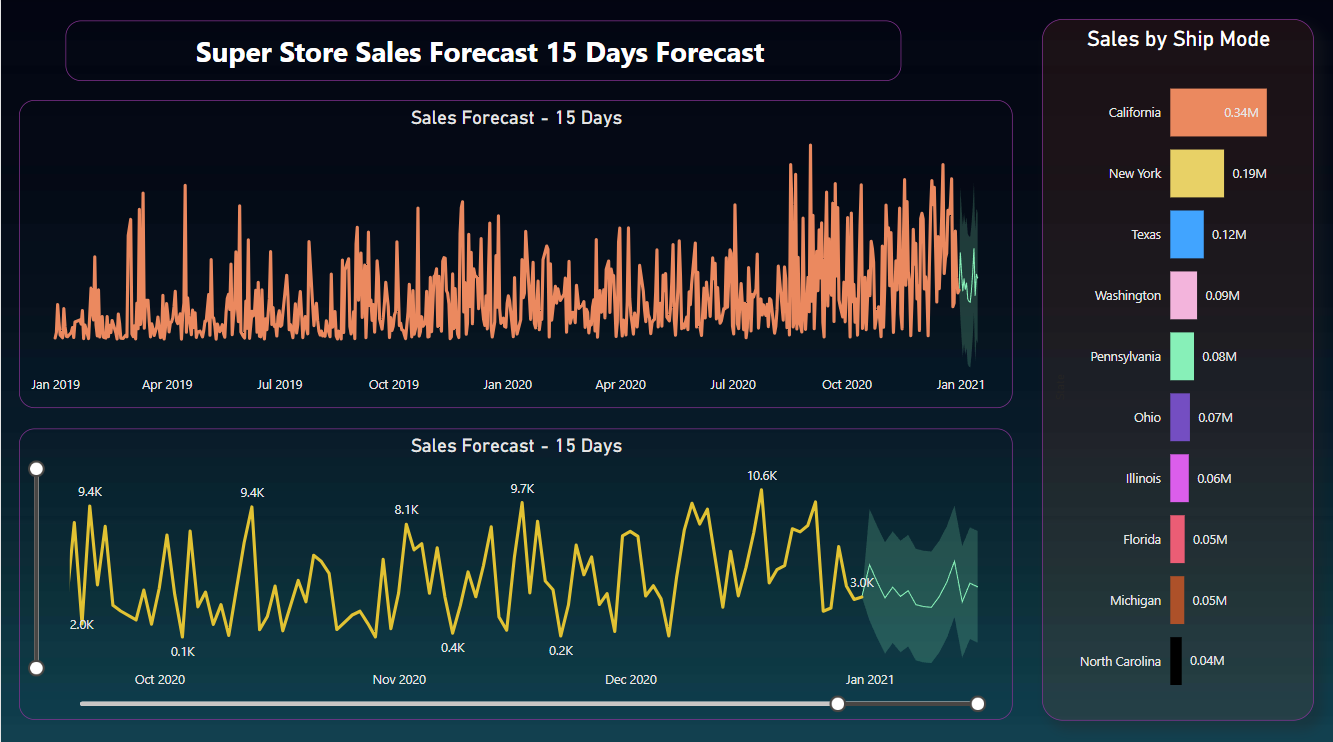

What the dashboard file says about the page in this screenshot:
{"tool":"powerbi","page":{"name":"Page 2","canvas":[1280,720],"ordinal":1},"visuals":[{"type":"lineChart","title":"Sales Forecast - 15 Days","fields":{"Y":["Sum(Sheet1.Sales)"],"Category":["Sheet1.Order Date"]},"box":[16.7,98.4,952.4,295.3],"z":0},{"type":"lineChart","title":"Sales Forecast - 15 Days","fields":{"Y":["Sum(Sheet1.Sales)"],"Category":["Sheet1.Order Date"]},"box":[16.7,413.4,952.4,279.1],"z":1},{"type":"textbox","box":[62.1,21.2,801,58],"z":2},{"type":"barChart","title":"Sales by Ship Mode","fields":{"Category":["Sheet1.State"],"Y":["Sum(Sheet1.Sales)"]},"box":[997.8,20.8,260.8,672.8],"z":3}]}

Visuals, with their boxes in screenshot pixels (x1, y1, x2, y2), scaled from the page's 1280x720 canvas onto the 1333x742 screenshot:
"Sales Forecast - 15 Days" lineChart: 17:101:1009:406
"Sales Forecast - 15 Days" lineChart: 17:426:1009:714
textbox: 65:22:899:82
"Sales by Ship Mode" barChart: 1039:21:1311:715
